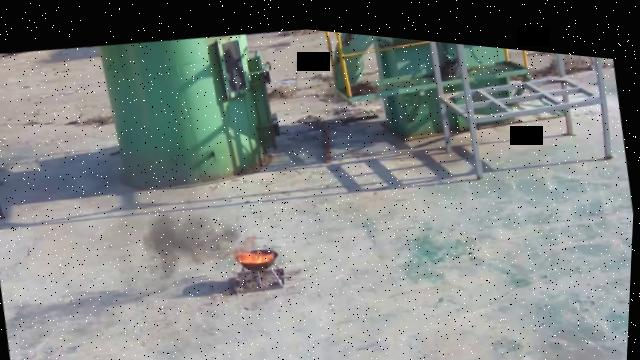fire: (239, 240, 279, 262)
smoke: (130, 190, 267, 287)
